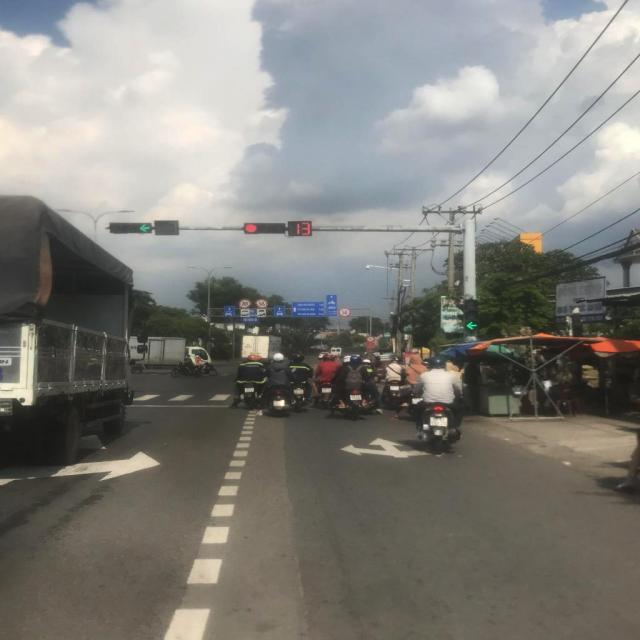cam_cac_loai_xe_3_banh: (366, 336, 375, 342)
duong_cho_xe_o_to: (224, 306, 235, 317), (274, 306, 285, 316)
khac: (292, 302, 324, 317), (326, 296, 337, 318), (240, 309, 250, 313), (240, 313, 250, 317), (257, 309, 266, 313), (257, 313, 266, 317)
toc_do_toi_da_50: (338, 308, 351, 317)
toc_do_toi_da_60: (254, 299, 268, 308)
toc_do_toi_da_80: (239, 299, 252, 309)
